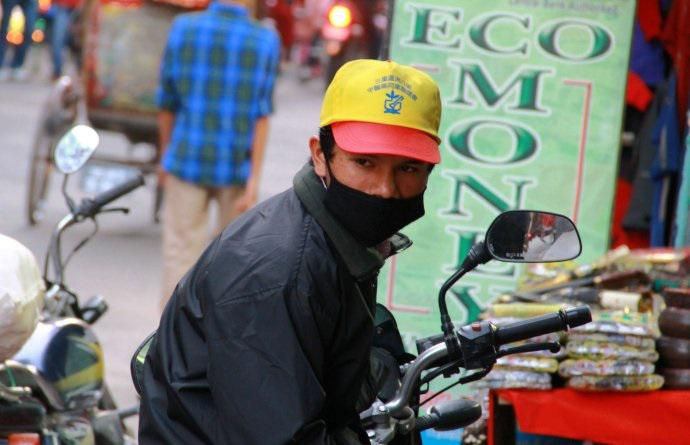WRONG: (324, 145, 426, 247)
